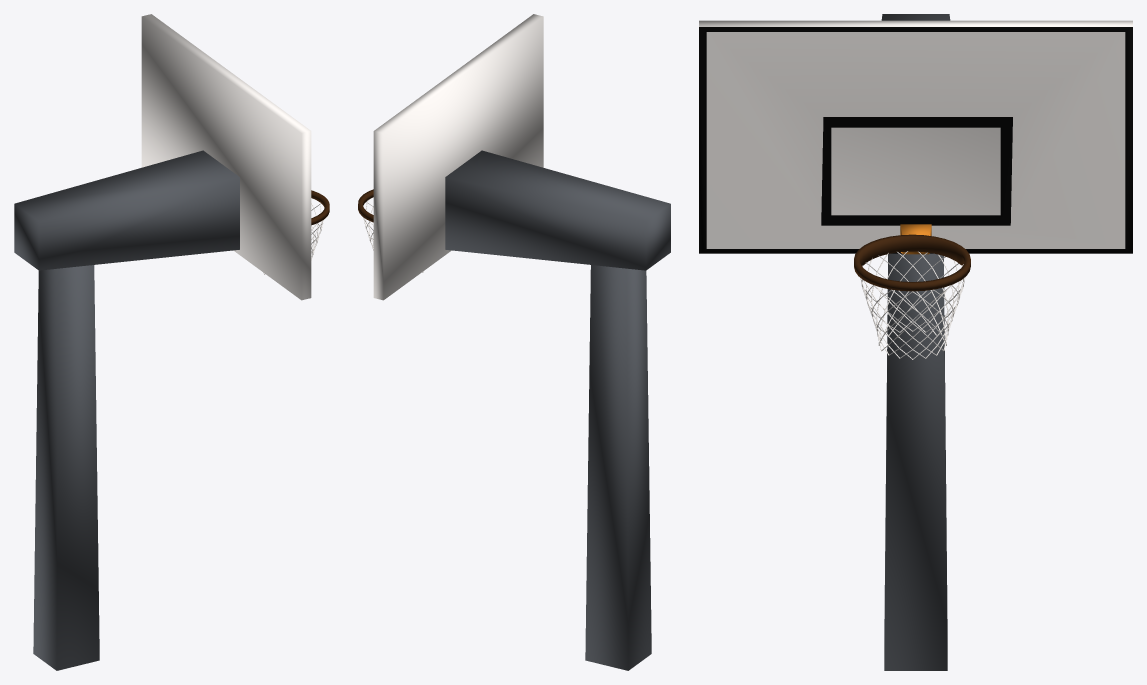
Rendered from Basket_Hoop.glb.
3 views of the same model, side by side, from view 1: azimuth 30°, elevation 25°; view 2: azimuth 150°, elevation 25°; view 3: azimuth 270°, elevation 25° (orthographic). The views are drawn at different scales.
Visible parts, largest first — view 1: uploads files 5751296 BASKETBALL+HOOP; view 2: uploads files 5751296 BASKETBALL+HOOP; view 3: uploads files 5751296 BASKETBALL+HOOP.
Part boxes in pixels (box(x1,y1,x2,y2)): uploads files 5751296 BASKETBALL+HOOP: box(14, 14, 329, 670); uploads files 5751296 BASKETBALL+HOOP: box(358, 14, 670, 670); uploads files 5751296 BASKETBALL+HOOP: box(699, 14, 1132, 670).
Bounding box in the file's own units: 1.79 × 3.14 × 1.67.
